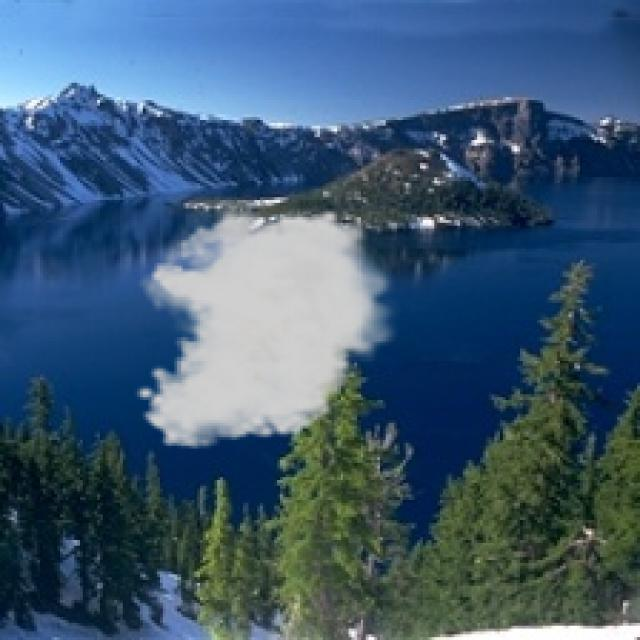Smoke: (134, 194, 403, 452)
